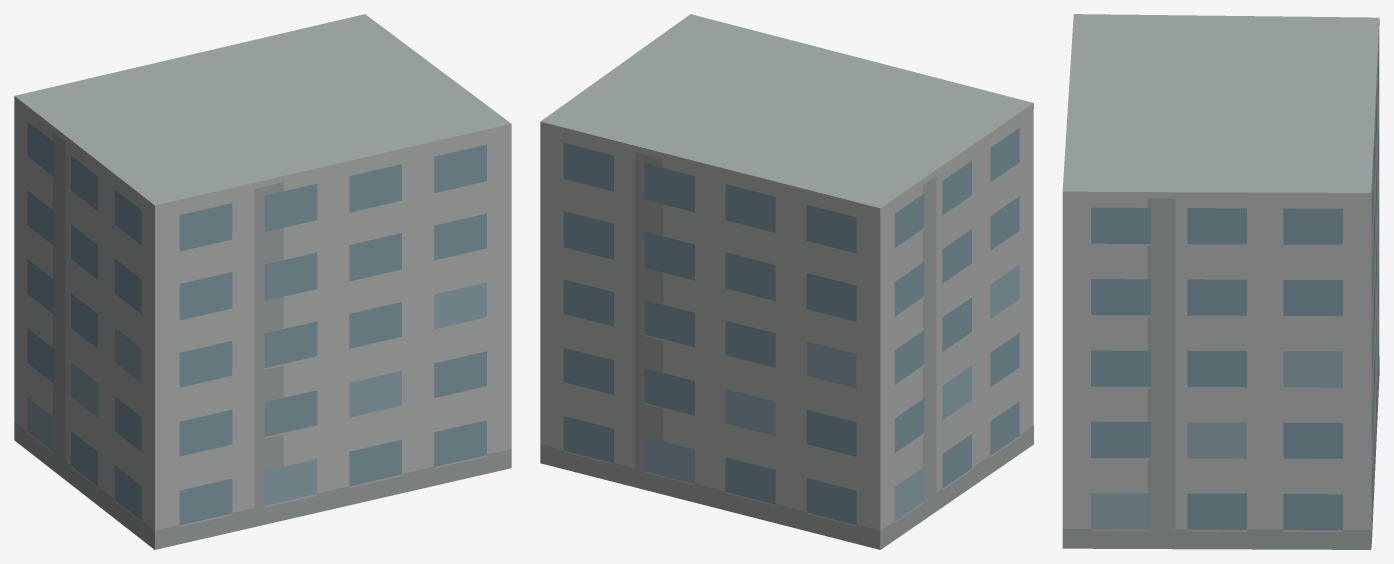
File: survey-upis-32951497.glb
3 views of the same model, side by side, from view 1: azimuth 30°, elevation 25°; view 2: azimuth 150°, elevation 25°; view 3: azimuth 270°, elevation 25° (orthographic). The views are drawn at different scales.
Parts seen in each view (by area): view 1: survey-upis-32951497.tmp; view 2: survey-upis-32951497.tmp; view 3: survey-upis-32951497.tmp.
Part boxes in pixels (x1,y1,x2,y2): survey-upis-32951497.tmp: (14, 14, 511, 549); survey-upis-32951497.tmp: (540, 14, 1033, 549); survey-upis-32951497.tmp: (1062, 14, 1379, 549).
Bounding box in the file's own units: 14.74 × 13.7 × 11.03.
